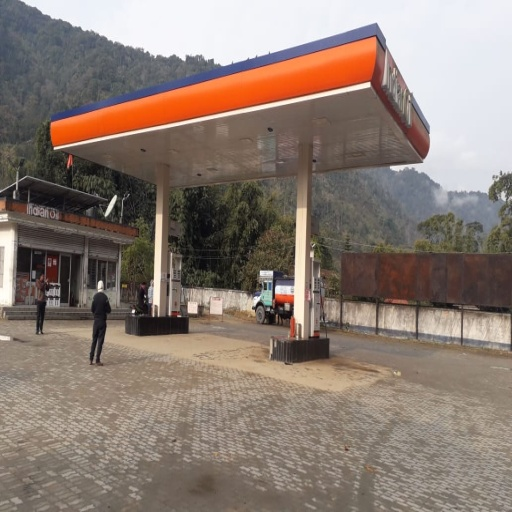roof: (51, 23, 431, 186)
